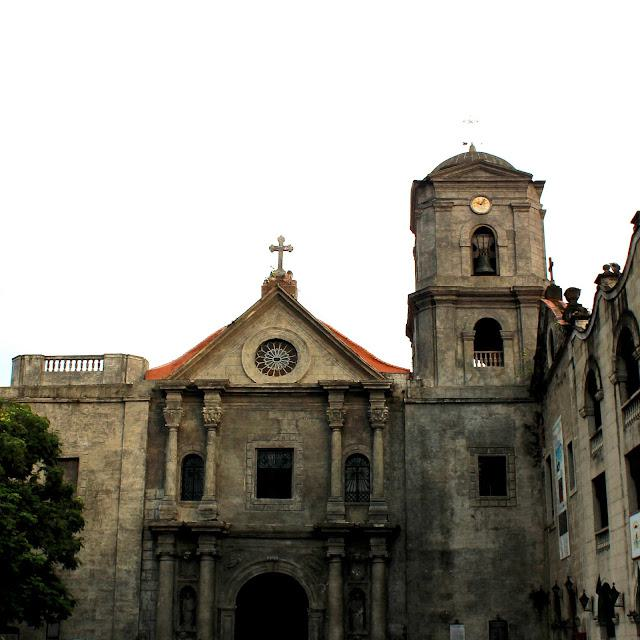Environmental Damage: (524, 410, 550, 467)
San Agustin Church: (143, 142, 557, 640)
